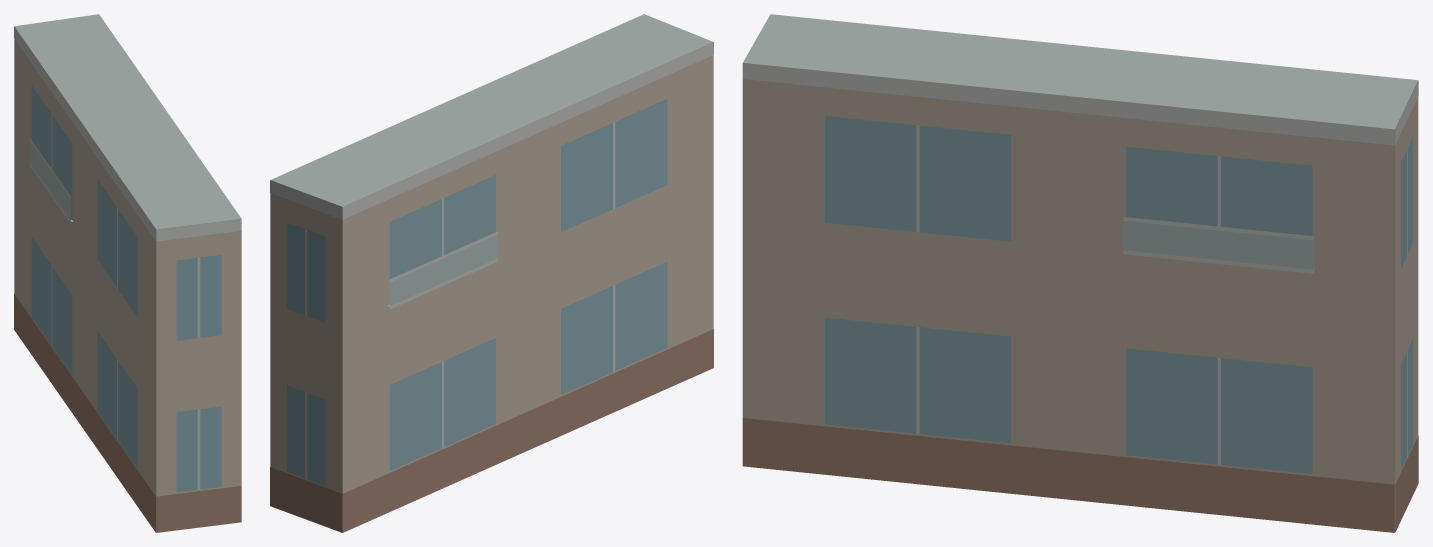
Rendered from survey-upis-32665782.glb.
3 views of the same model, side by side, from view 1: azimuth 30°, elevation 25°; view 2: azimuth 150°, elevation 25°; view 3: azimuth 270°, elevation 25° (orthographic). The views are drawn at different scales.
Visible parts, largest first — view 1: survey-upis-32665782.tmp; view 2: survey-upis-32665782.tmp; view 3: survey-upis-32665782.tmp.
Part boxes in pixels (left/top/right/bottom): survey-upis-32665782.tmp: left=14, top=14, right=241, bottom=532; survey-upis-32665782.tmp: left=270, top=14, right=713, bottom=532; survey-upis-32665782.tmp: left=742, top=14, right=1418, bottom=532.
Bounding box in the file's own units: 3.75 × 6.1 × 9.27.
